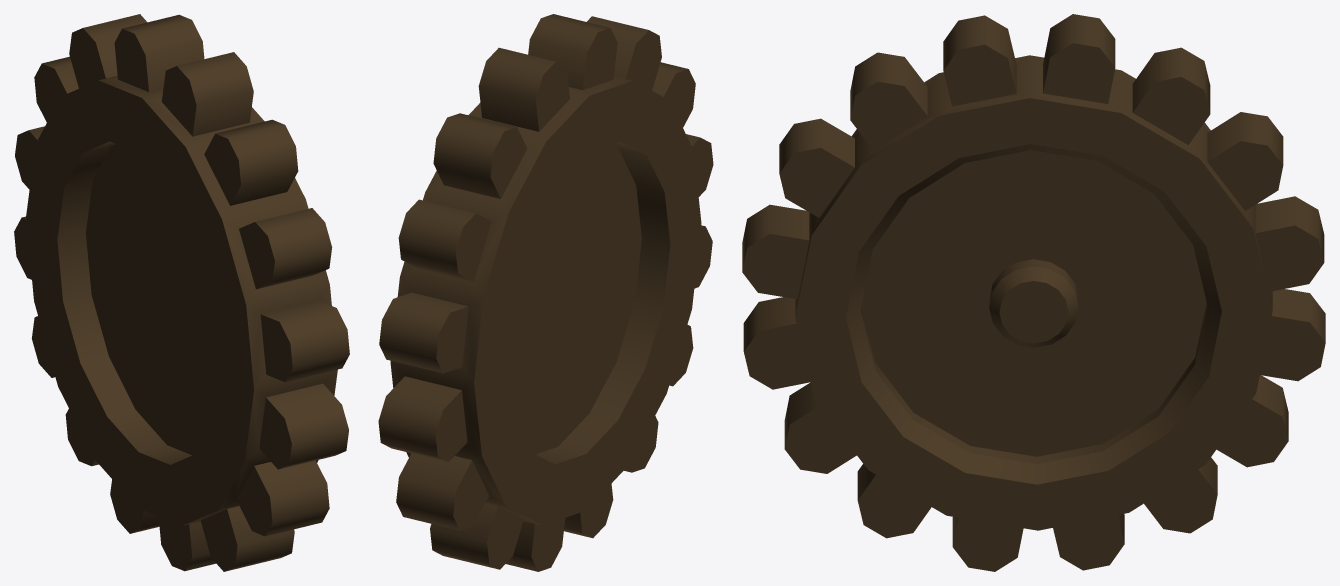
The model's file is Cogwheels_02.fbx.
3 views of the same model, side by side, from view 1: azimuth 30°, elevation 25°; view 2: azimuth 150°, elevation 25°; view 3: azimuth 270°, elevation 25° (orthographic). The views are drawn at different scales.
Visible parts, largest first — view 1: Cylinder.009; view 2: Cylinder.009; view 3: Cylinder.009.
Part boxes in pixels (x1,y1,x2,y2): Cylinder.009: (14, 14, 349, 571); Cylinder.009: (378, 14, 713, 571); Cylinder.009: (742, 14, 1325, 571).
Size of the model in its own units: 0.0803 by 0.4625 by 0.4625.
